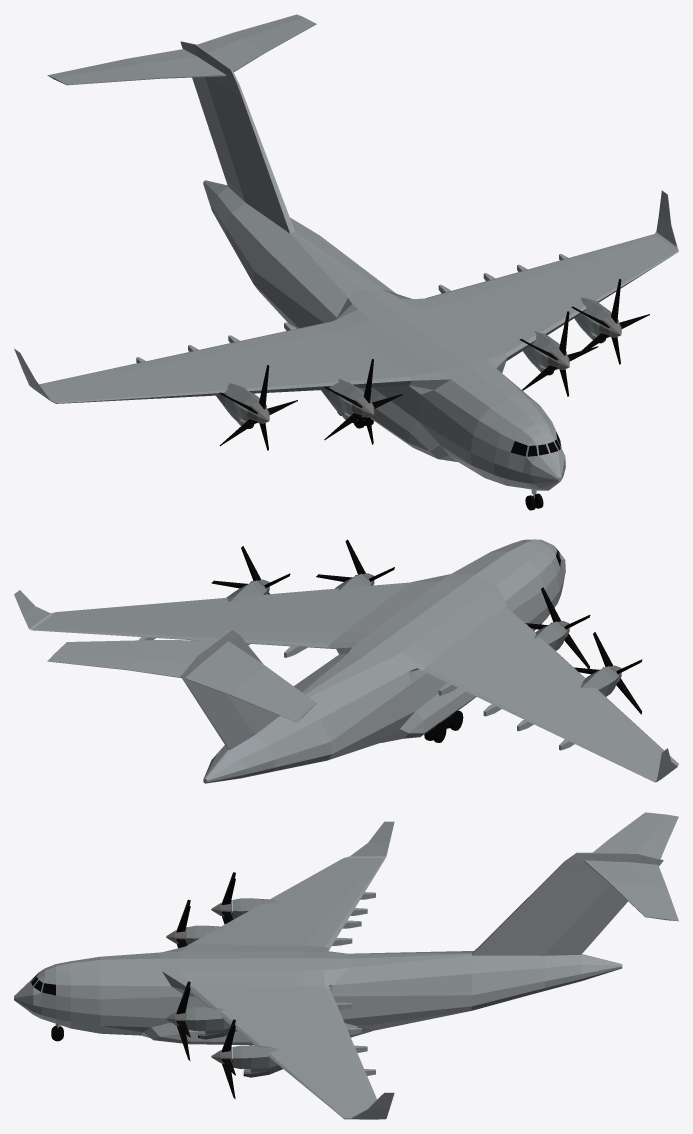
3 views of the same model, one above another, from view 1: azimuth 30°, elevation 25°; view 2: azimuth 150°, elevation 25°; view 3: azimuth 270°, elevation 25° (orthographic). The views are drawn at different scales.
Parts seen in each view (by area): view 1: Body.003, Rudder.003, R_Flap2.003, propeller 2.015, propeller 2.014, propeller 2.012, propeller 2.013, R_elevator.003, L_Flap2.003, L_Elevator.003, R_Flap1.003; view 2: Body.003, Rudder.003, R_Flap2.003, R_elevator.003, L_Elevator.003, L_Flap2.003, R_Flap1.003, L_Flap1.003, propeller 2.015, propeller 2.014, Landing gear_RR.003, propeller 2.013 (+3 smaller); view 3: Body.003, Rudder.003, L_Flap2.003, R_Flap2.003, L_Elevator.003, L_Flap1.003, R_elevator.003, R_Flap1.003, propeller 2.012, propeller 2.013, propeller 2.015, propeller 2.014.
Part boxes in pixels (bbox=[...]): Body.003: bbox=[14, 17, 678, 490]; Rudder.003: bbox=[192, 77, 241, 192]; R_Flap2.003: bbox=[227, 322, 342, 349]; propeller 2.015: bbox=[219, 365, 297, 450]; propeller 2.014: bbox=[324, 359, 402, 444]; propeller 2.012: bbox=[519, 311, 598, 396]; propeller 2.013: bbox=[571, 279, 649, 364]; R_elevator.003: bbox=[47, 49, 193, 78]; L_Flap2.003: bbox=[425, 273, 511, 306]; L_Elevator.003: bbox=[197, 14, 303, 52]; R_Flap1.003: bbox=[116, 345, 220, 371]; Body.003: bbox=[14, 539, 678, 783]; Rudder.003: bbox=[186, 681, 251, 745]; R_Flap2.003: bbox=[424, 657, 511, 716]; R_elevator.003: bbox=[188, 665, 303, 722]; L_Elevator.003: bbox=[47, 654, 189, 677]; L_Flap2.003: bbox=[237, 631, 342, 657]; R_Flap1.003: bbox=[515, 705, 595, 750]; L_Flap1.003: bbox=[115, 628, 220, 640]; propeller 2.015: bbox=[574, 632, 642, 714]; propeller 2.014: bbox=[525, 587, 590, 668]; Landing gear_RR.003: bbox=[424, 710, 463, 742]; propeller 2.013: bbox=[211, 546, 290, 594]; Body.003: bbox=[14, 812, 667, 1119]; Rudder.003: bbox=[550, 884, 628, 950]; L_Flap2.003: bbox=[304, 986, 361, 1034]; R_Flap2.003: bbox=[304, 916, 361, 948]; L_Elevator.003: bbox=[634, 863, 678, 921]; L_Flap1.003: bbox=[333, 1038, 375, 1082]; R_elevator.003: bbox=[638, 814, 678, 859]; R_Flap1.003: bbox=[333, 883, 375, 915]; propeller 2.012: bbox=[166, 981, 190, 1060]; propeller 2.013: bbox=[211, 1019, 235, 1099]; propeller 2.015: bbox=[211, 872, 235, 924]; propeller 2.014: bbox=[166, 899, 190, 948].
Bounding box in the file's own units: 4342 × 1391 × 4498.
